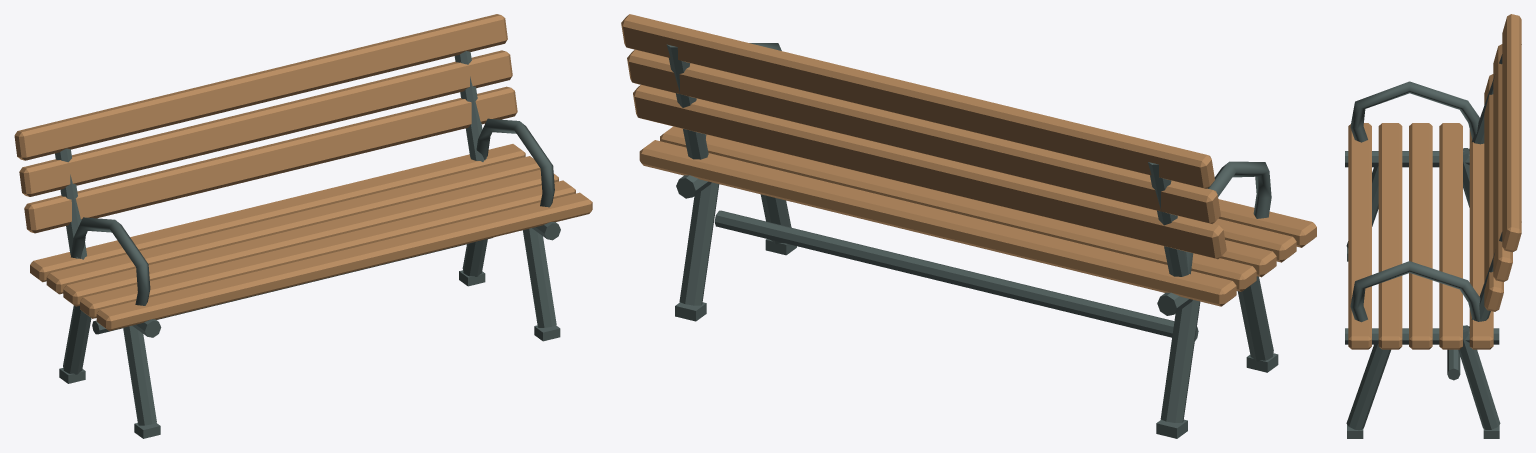
Rendered from cedar-bench.lod0.glb.
3 renders of one model, left to right at view 1: azimuth 30°, elevation 25°; view 2: azimuth 150°, elevation 25°; view 3: azimuth 270°, elevation 25°, orthographic. The views are drawn at different scales.
Parts seen in each view (by area): view 1: wood, metal; view 2: wood, metal; view 3: wood, metal.
Part boxes in pixels (x1,y1,x2,y2): wood: (14,14,592,330); metal: (55,51,560,438); wood: (621,14,1316,306); metal: (666,43,1278,438); wood: (1348,14,1521,349); metal: (1345,44,1521,438).
Bounding box in the file's own units: 2.02 × 0.9854 × 0.6996.
